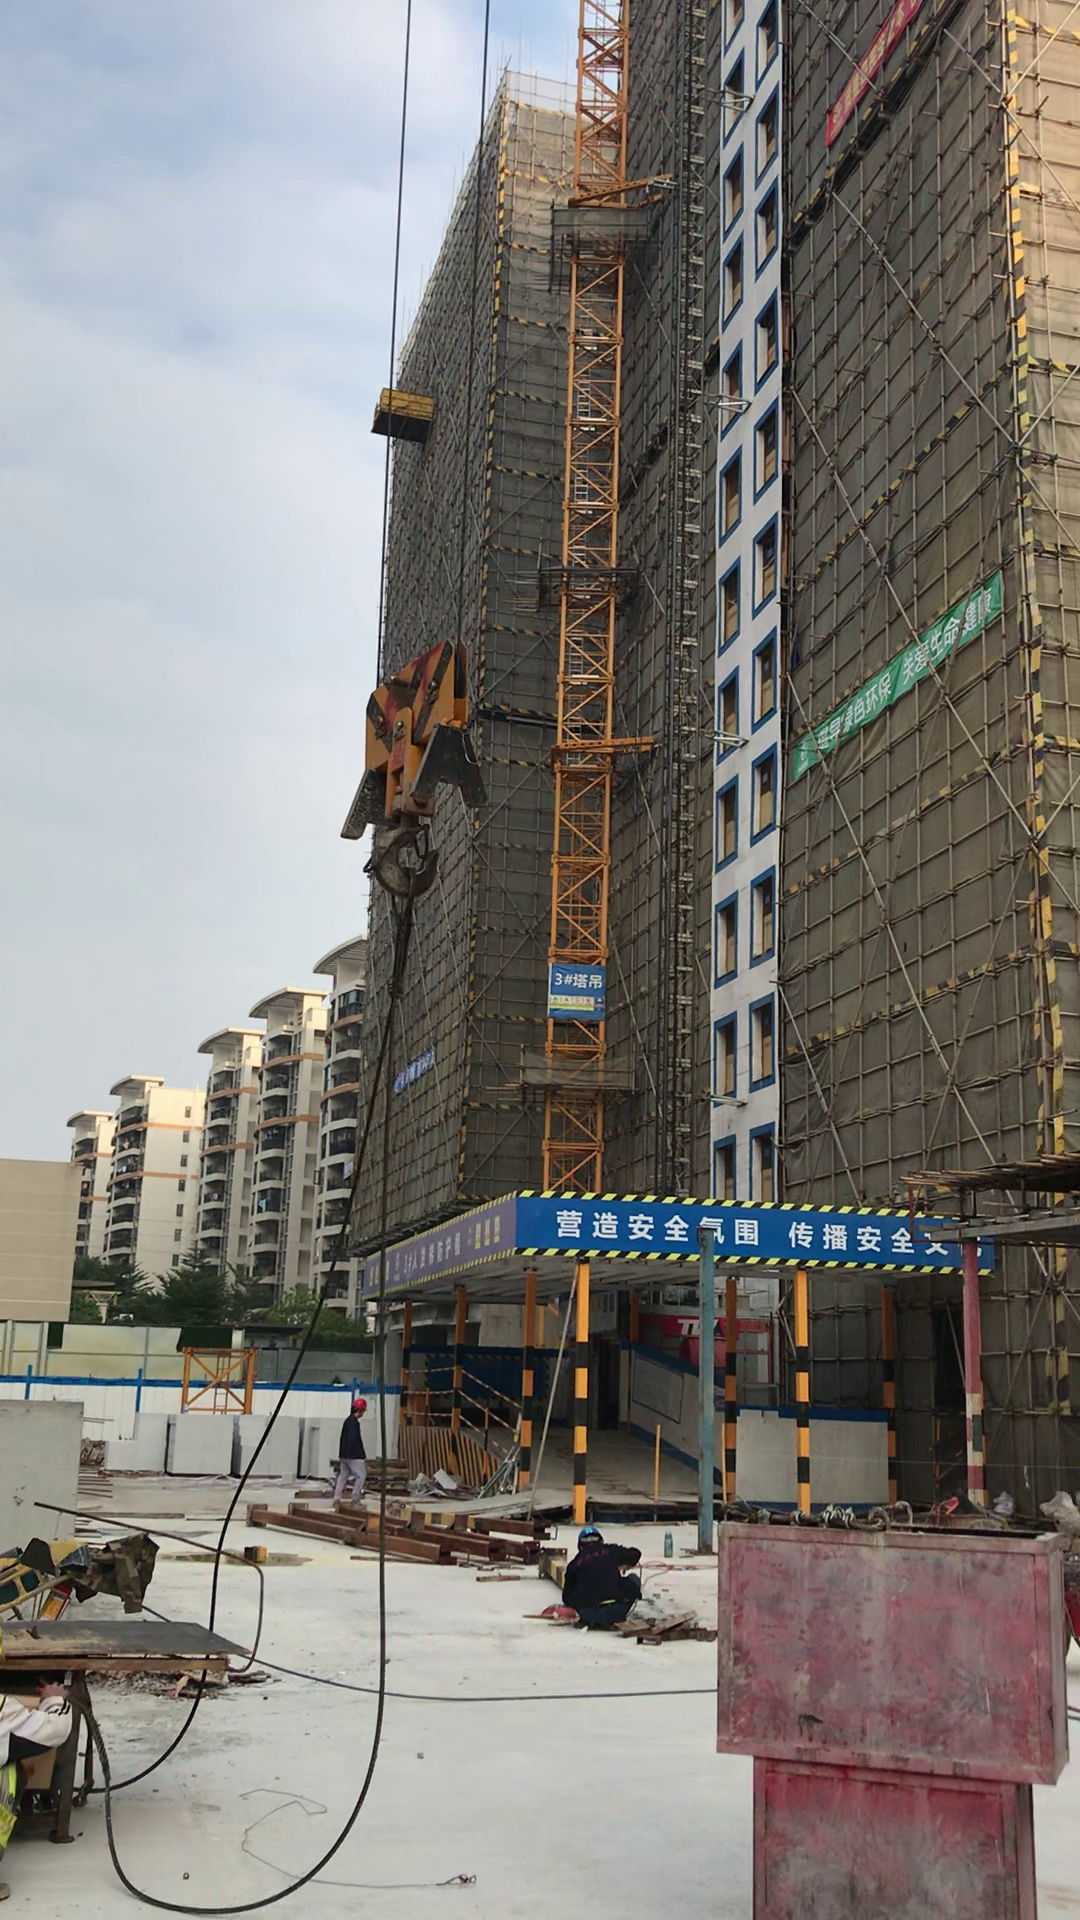brick: (107, 1409, 342, 1468)
cutter: (1, 1607, 252, 1830)
helmet: (575, 1522, 603, 1548), (350, 1396, 368, 1416)
hook: (354, 642, 470, 916)
person: (559, 1523, 645, 1640), (331, 1388, 374, 1509)
slogan: (787, 569, 1008, 795), (554, 1202, 961, 1266), (810, 1, 935, 154), (363, 1197, 515, 1297), (536, 954, 608, 1018), (378, 1041, 437, 1116)
